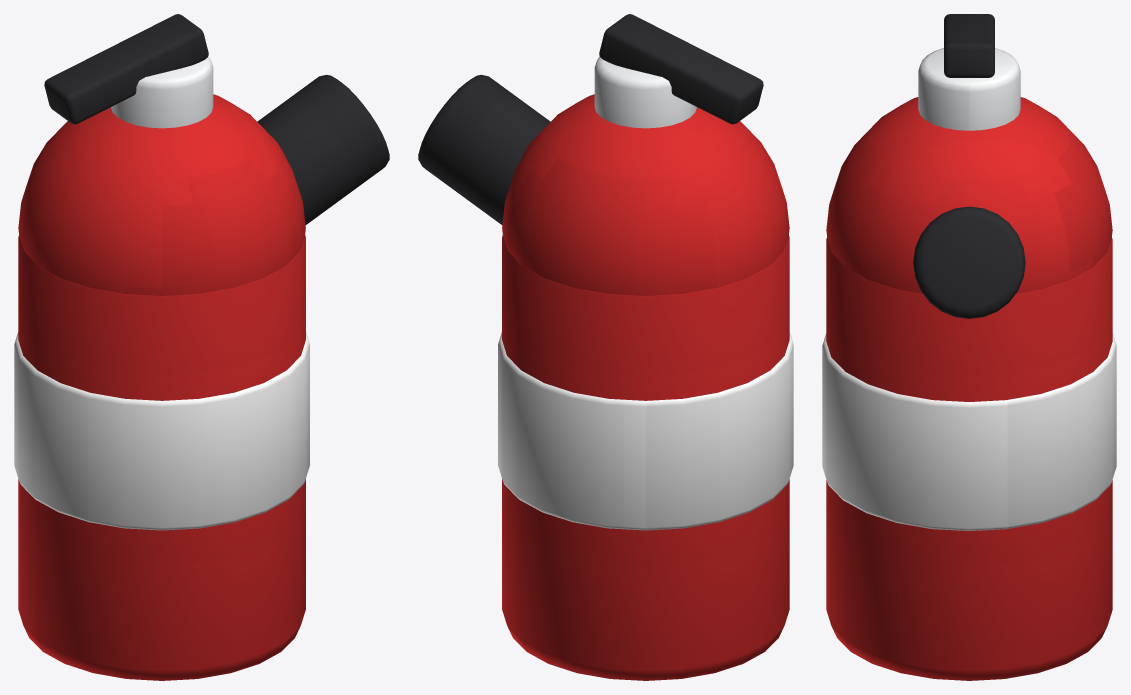
Rendered from extinguisher.glb.
The picture shows the model from 3 angles, left to right: view 1: azimuth 30°, elevation 25°; view 2: azimuth 150°, elevation 25°; view 3: azimuth 270°, elevation 25°; orthographic projection.
Parts seen in each view (by area): view 1: ExtTank, ExtDome, ExtBand, ExtHorn, ExtLever, ExtNeck; view 2: ExtTank, ExtDome, ExtBand, ExtHorn, ExtLever, ExtNeck; view 3: ExtTank, ExtBand, ExtDome, ExtHorn, ExtNeck, ExtLever.
Part boxes in pixels (x1,y1,x2,y2): ExtTank: (18,235,305,680); ExtDome: (18,94,305,295); ExtBand: (14,332,309,530); ExtHorn: (257,74,389,224); ExtLever: (44,14,208,124); ExtNeck: (111,56,213,128); ExtTank: (502,235,789,680); ExtDome: (502,94,789,295); ExtBand: (498,332,793,530); ExtHorn: (418,74,550,224); ExtLever: (599,14,763,124); ExtNeck: (594,56,696,128); ExtTank: (826,237,1112,680); ExtBand: (822,333,1116,531); ExtDome: (826,97,1112,293); ExtHorn: (913,206,1025,318); ExtNeck: (918,48,1020,130); ExtLever: (944,14,994,77).
Bounding box in the file's own units: 0.3849 × 0.6449 × 0.288.
4 materials, 4 textured.
